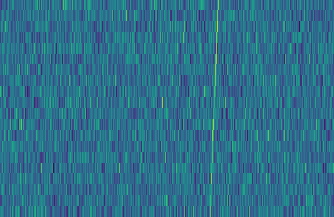signal: (206, 0, 223, 217)
